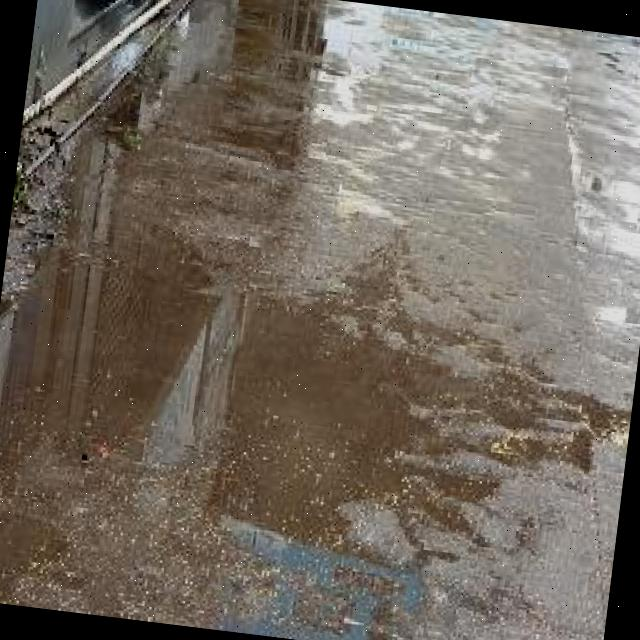stagnation: (0, 205, 470, 587)
